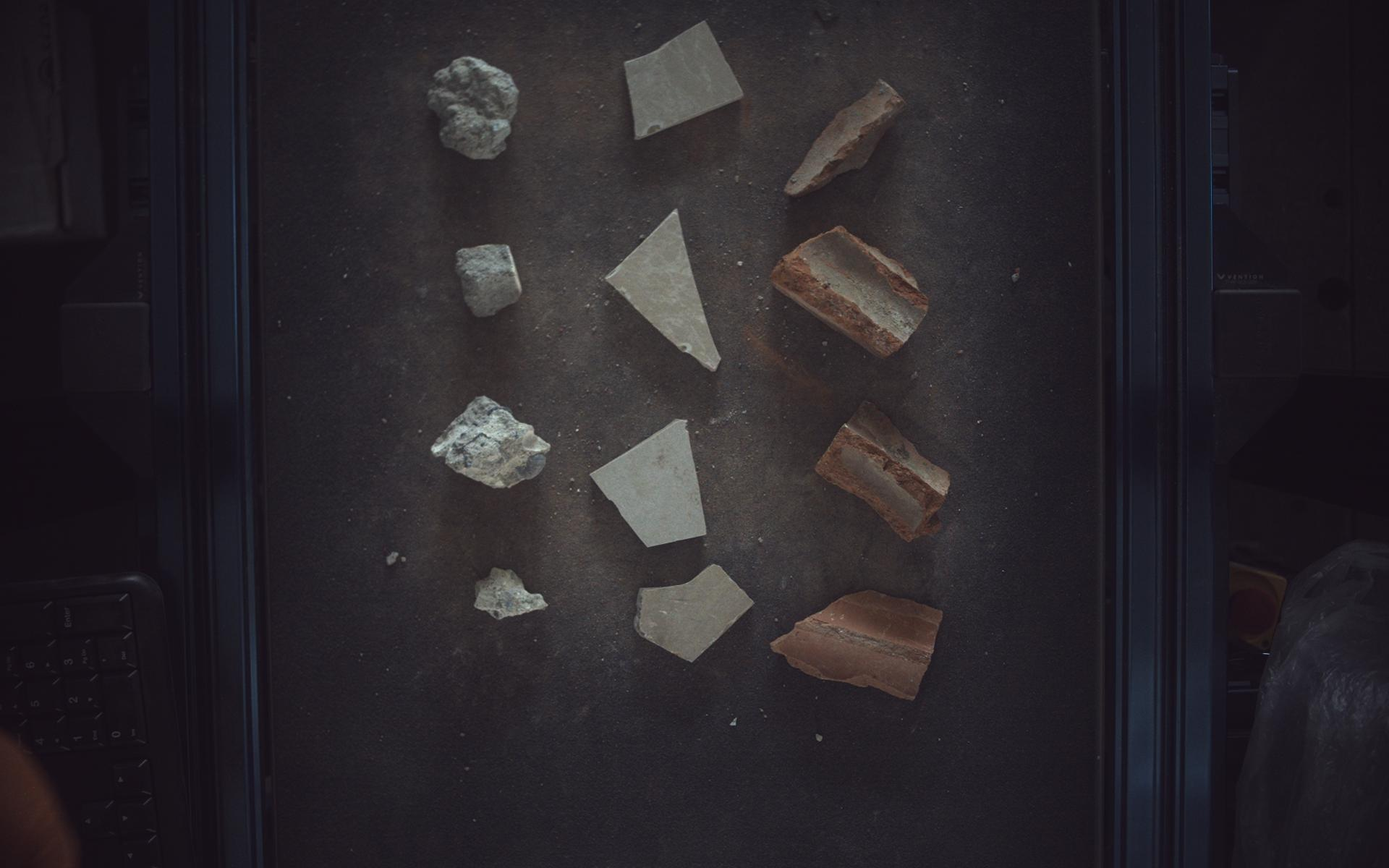brick: (772, 226, 930, 357), (817, 401, 952, 542), (773, 592, 945, 701), (786, 78, 907, 195)
concrete: (431, 396, 551, 488), (428, 55, 519, 158), (455, 244, 522, 317), (475, 569, 548, 620)
tile: (606, 208, 721, 371), (591, 420, 708, 548), (626, 20, 744, 139), (635, 564, 755, 663)
